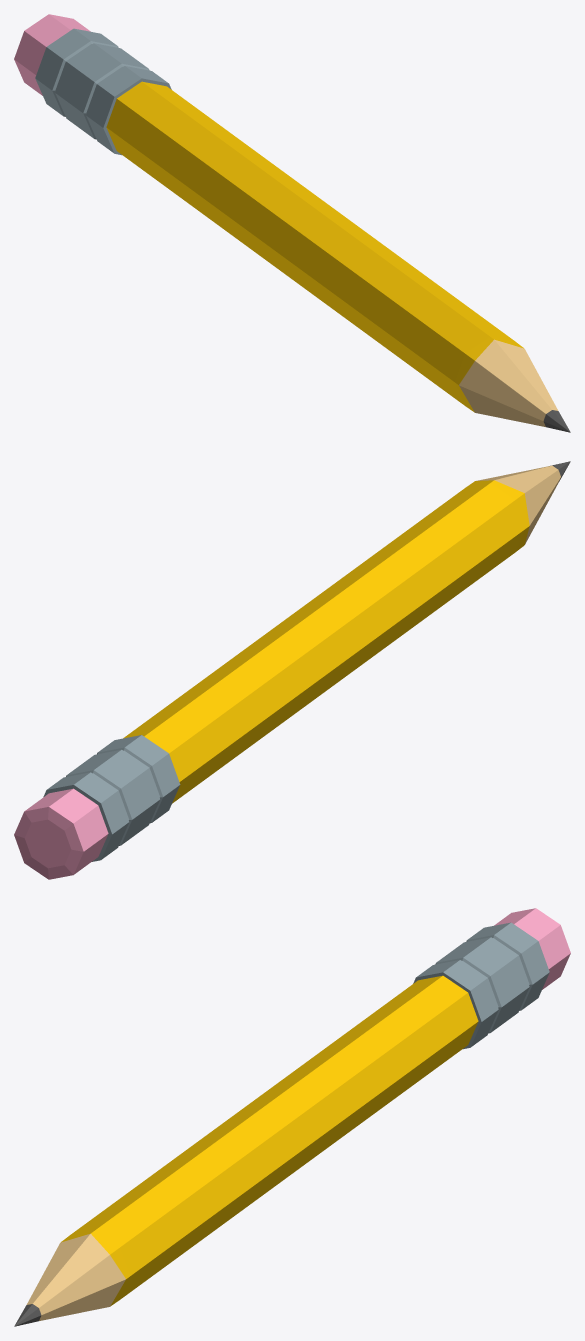
Rendered from pencil.gltf.
3 renders of one model, top to bottom at view 1: azimuth 30°, elevation 25°; view 2: azimuth 150°, elevation 25°; view 3: azimuth 330°, elevation 25°, orthographic.
Parts seen in each view (by area): view 1: node-0; view 2: node-0; view 3: node-0.
Boxes of the visible parts, left/top/right/bottom form: node-0: left=14, top=14, right=570, bottom=432; node-0: left=14, top=461, right=570, bottom=879; node-0: left=14, top=908, right=570, bottom=1326.
Bounding box in the file's own units: 0.8445 × 0.8445 × 9.93.
